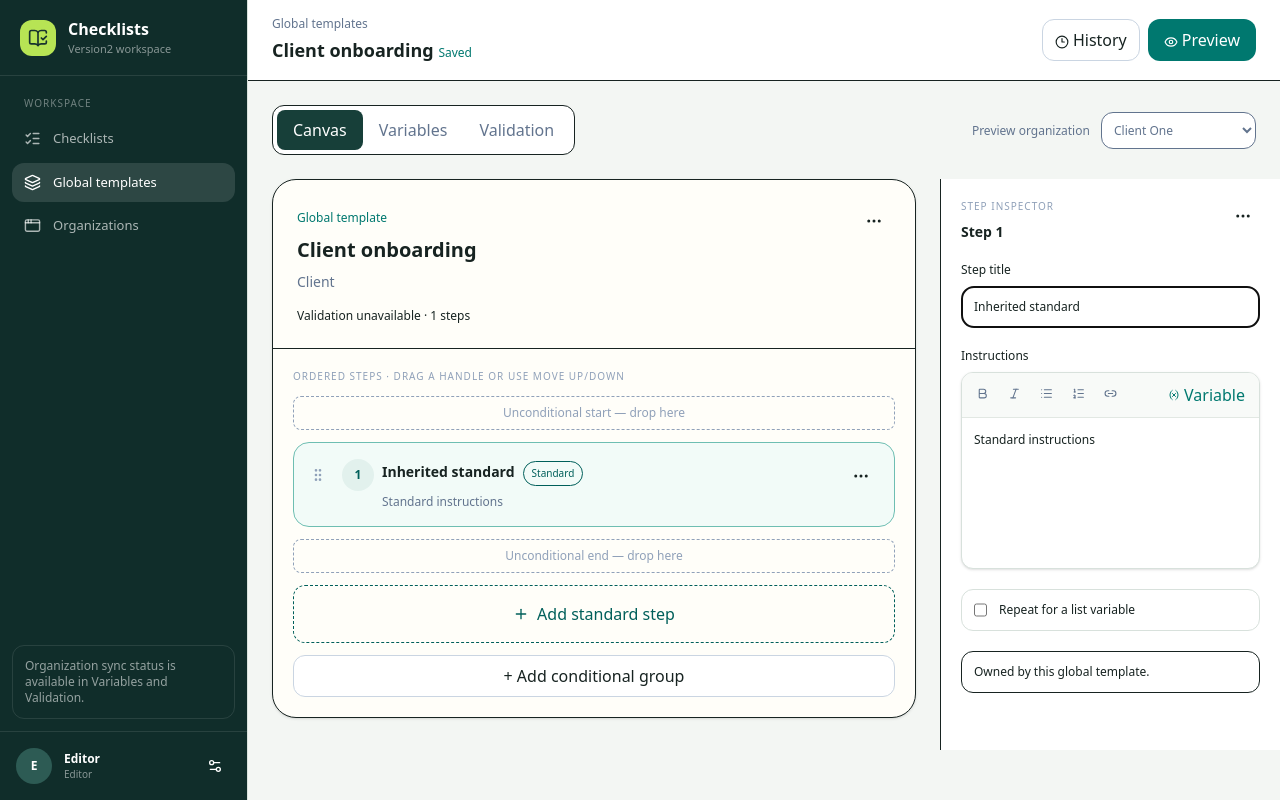
Scenario: new template authoring › keeps a global step's trailing space and caret through autosave so typing can continue
This screenshot has width=1280, height=800.
Replace the text in the field labelled "Step title" with "O365 - " at [1110, 307], box [961,286,1260,328]
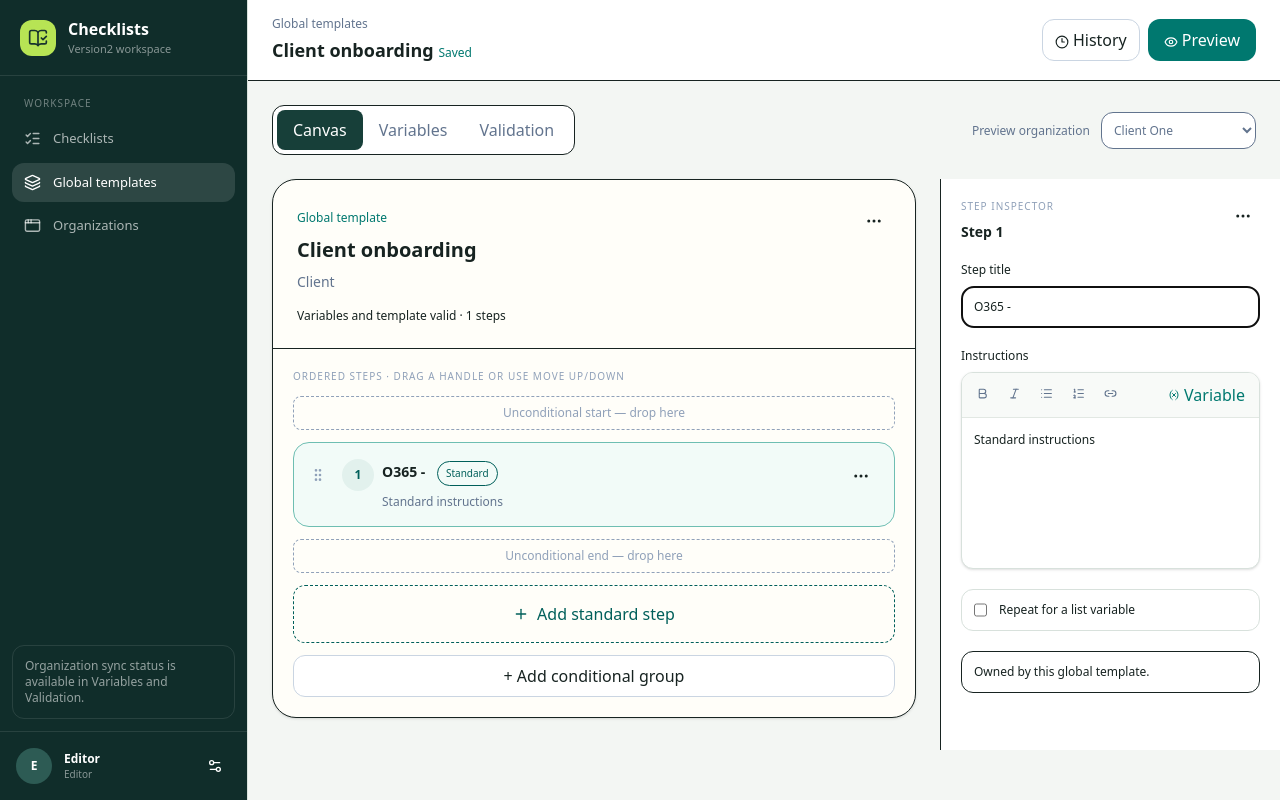
Check: the text "O365 -" is shown, box [382,462,429,481]
Replace the text in the field labelled "Step title" with "O365 - User access" at [1110, 307], box [961,286,1260,328]
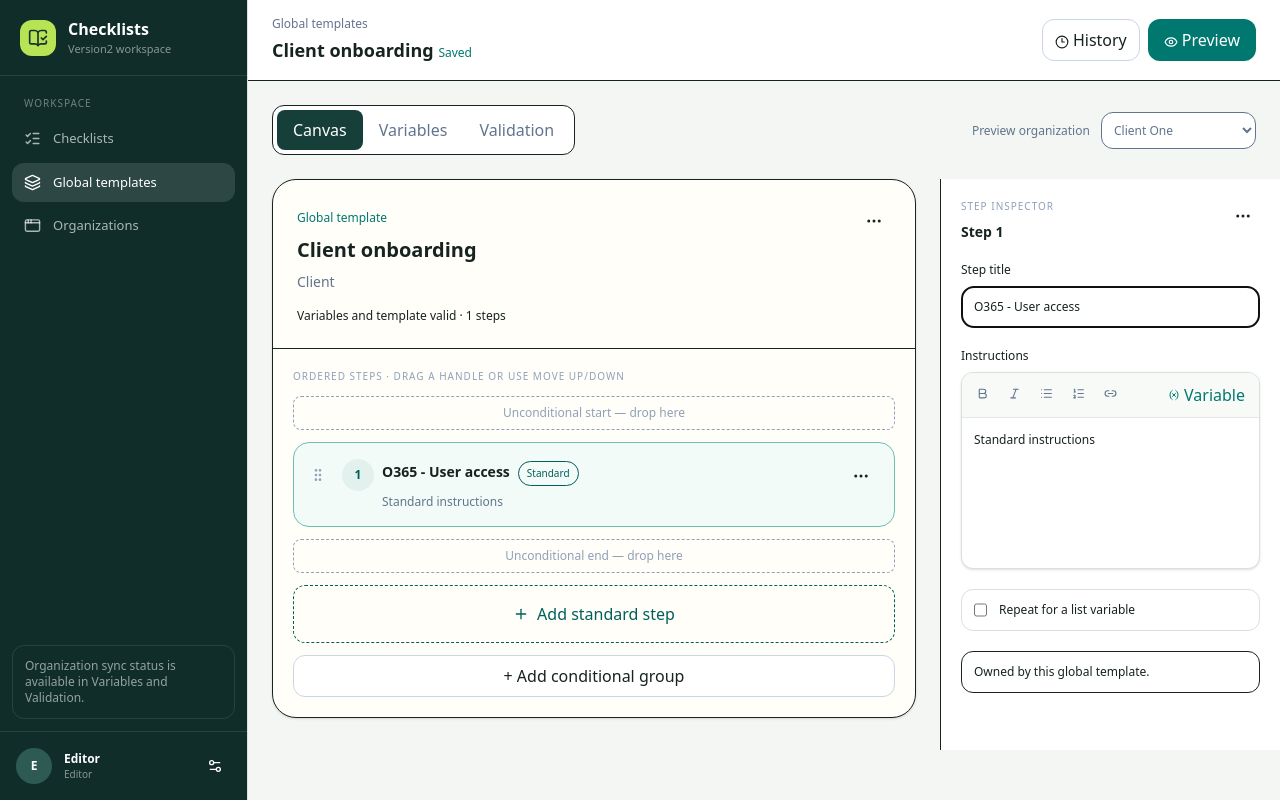
Check: the text "O365 - User access" is shown, box [382,462,510,481]
